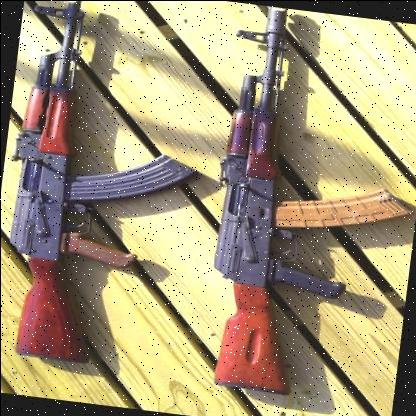rifle: (177, 0, 416, 413), (0, 0, 218, 379)
